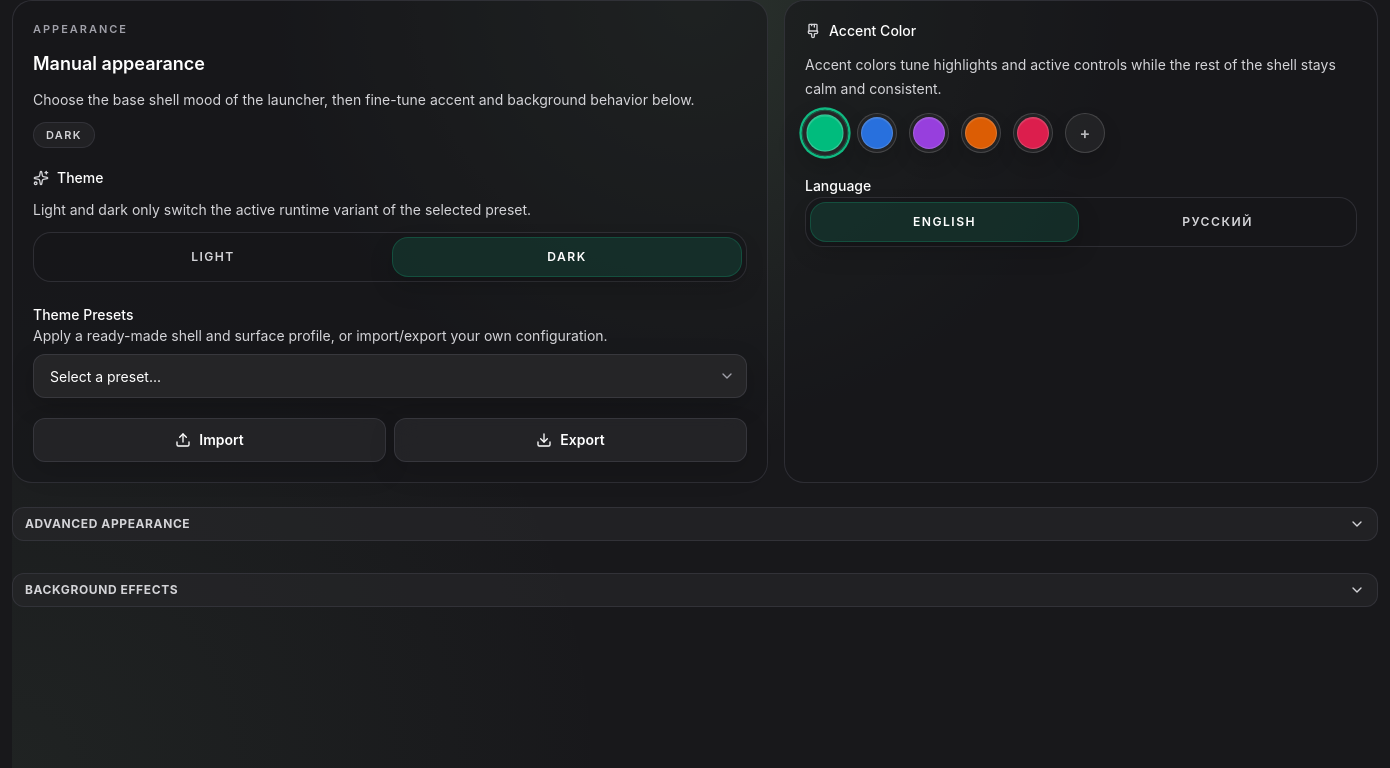
Scenario: AppearanceTab preset contract › stores the preset identity and applies its runtime colors immediately
The image size is (1390, 768).
Select "Forest" in the dropdown named "Theme Presets" at (390, 376), box [33,354,747,398]
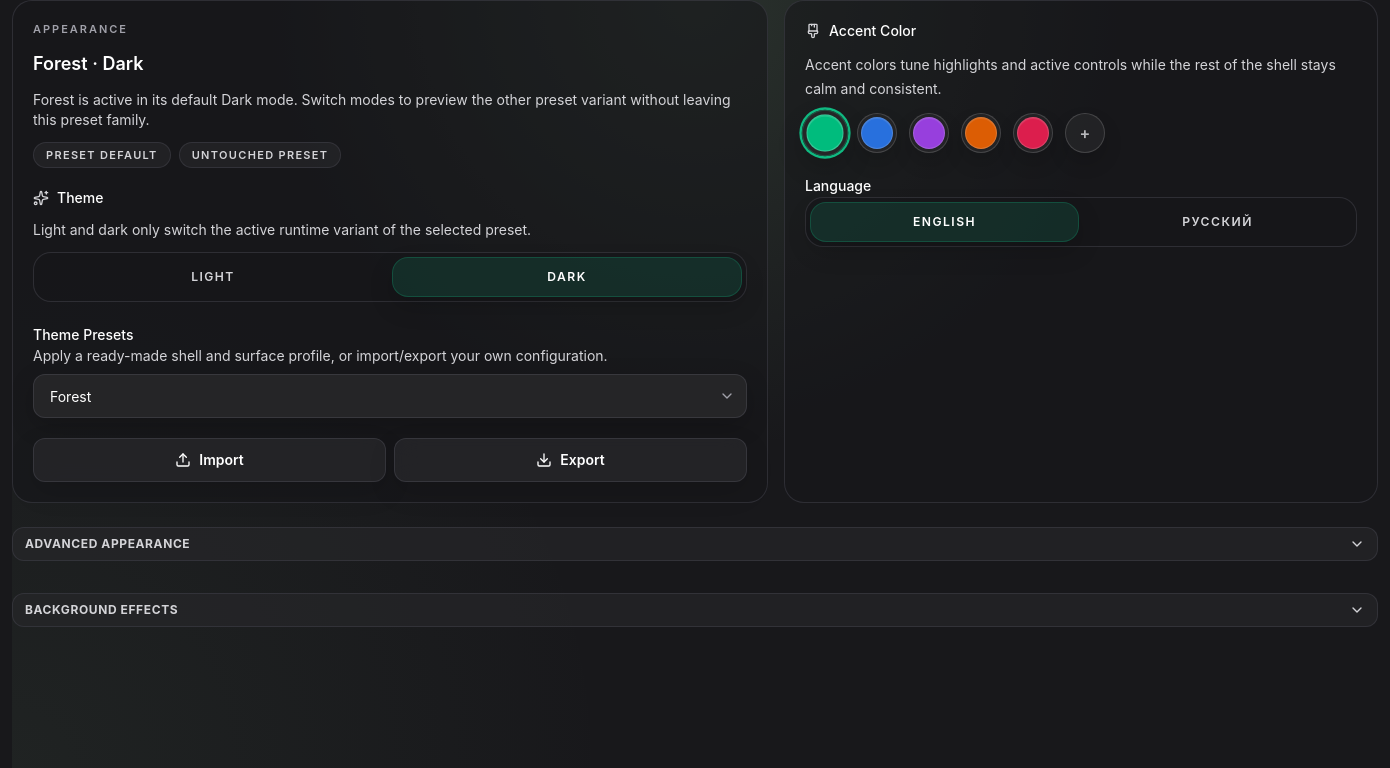
expect the heading "Forest · Dark" is shown: met, box [33,50,143,78]
expect the text "Preset default" is shown: met, box [33,142,171,168]
expect the text "Untouched preset" is shown: met, box [179,142,341,168]
